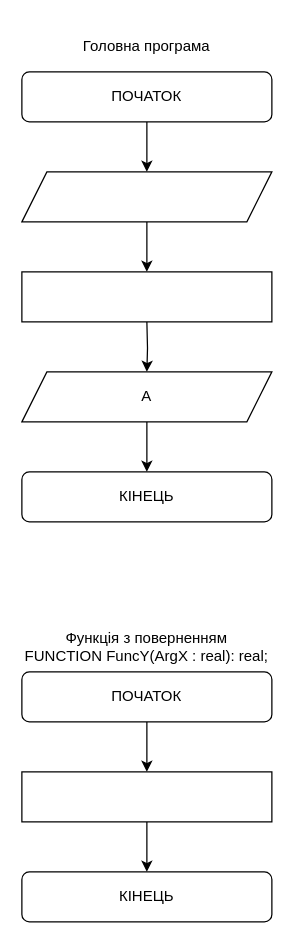
Image size: 294x944. Some labels were removed from this diagram. The box of each missing label's shape, as (x1, y1, x2, y2) in pixels:
A = ( pow(FuncY(x), 2) + pow(FuncY(y), 2) ) / 2: (21, 271, 272, 322)
FuncY := power(ArgX, 5) * power( cos(1.0 / ArgX), 2);: (21, 771, 272, 822)
x, y: (21, 171, 272, 222)
